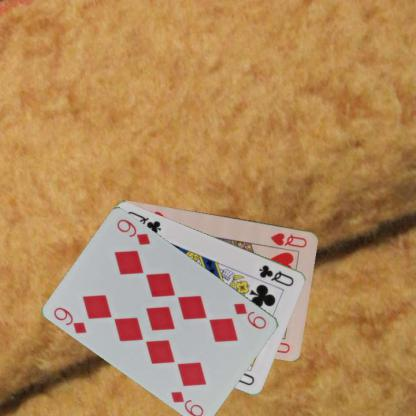9d: (231, 300, 269, 330), (51, 305, 88, 335)
Qc: (257, 262, 295, 288)
Qh: (268, 230, 309, 249)
